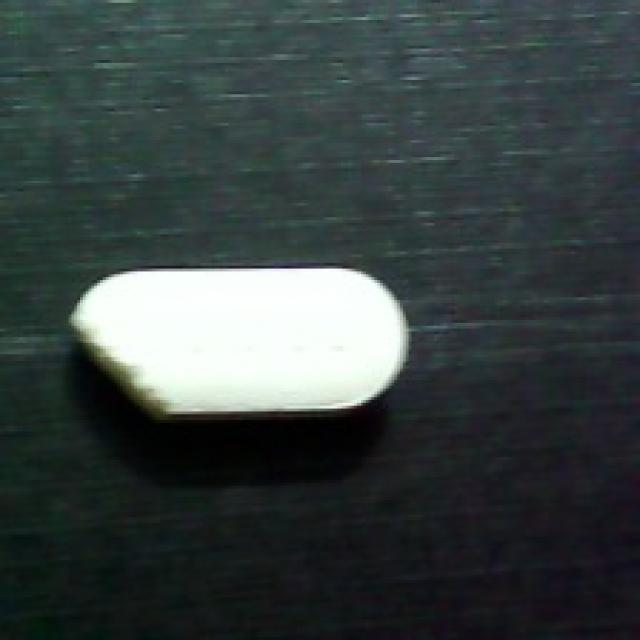defected: (60, 260, 414, 426)
